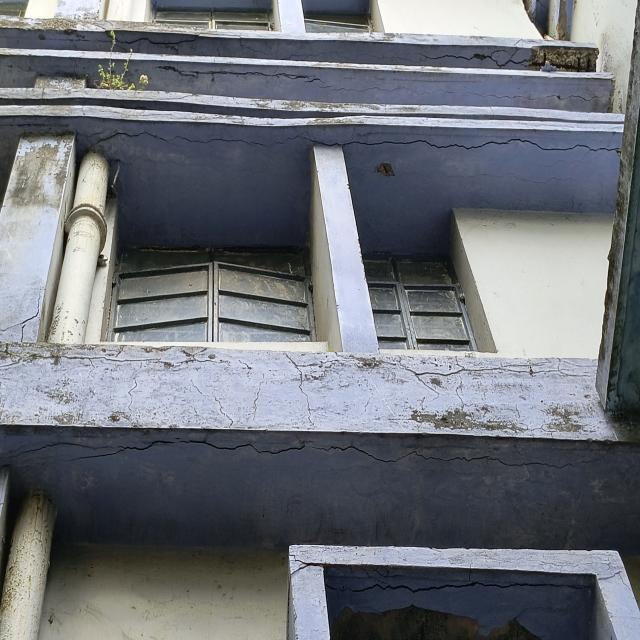crack: (8, 438, 601, 473), (90, 127, 622, 160), (398, 357, 592, 395), (0, 351, 219, 378), (334, 84, 607, 105), (374, 38, 530, 70), (324, 578, 593, 596), (105, 29, 273, 56), (284, 353, 341, 424), (154, 64, 324, 85), (286, 553, 324, 639), (1, 285, 43, 343), (252, 380, 263, 425)
peeling: (377, 162, 394, 176)
spalling: (528, 46, 598, 72)
stain_mould: (0, 0, 640, 442), (3, 135, 74, 216), (92, 25, 163, 97)
